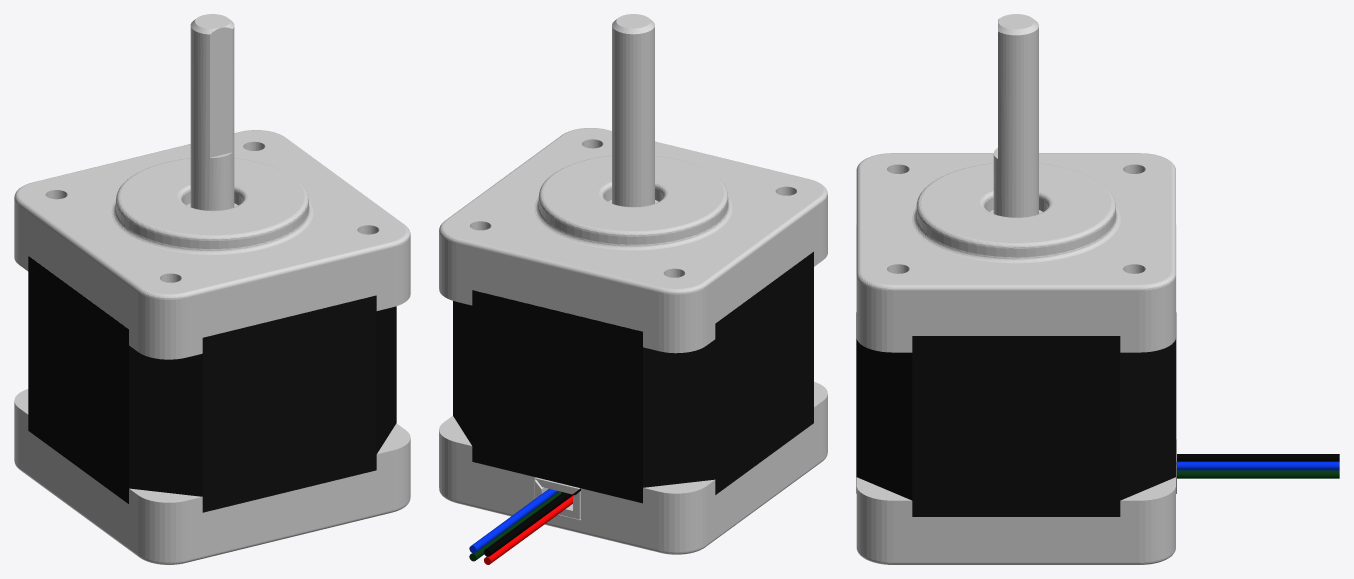
File: stepperonline-14hs13-0804s.glb
The picture shows the model from 3 angles, left to right: view 1: azimuth 30°, elevation 25°; view 2: azimuth 150°, elevation 25°; view 3: azimuth 270°, elevation 25°; orthographic projection. The views are drawn at different scales.
Parts seen in each view (by area): view 1: stepperonline-14hs13-0804s; view 2: stepperonline-14hs13-0804s; view 3: stepperonline-14hs13-0804s.
Boxes of the visible parts, left/top/right/bottom form: stepperonline-14hs13-0804s: left=14, top=14, right=410, bottom=564; stepperonline-14hs13-0804s: left=439, top=14, right=827, bottom=564; stepperonline-14hs13-0804s: left=856, top=14, right=1339, bottom=564.
Size of the model in its own units: 35.21 by 58 by 53.21.
